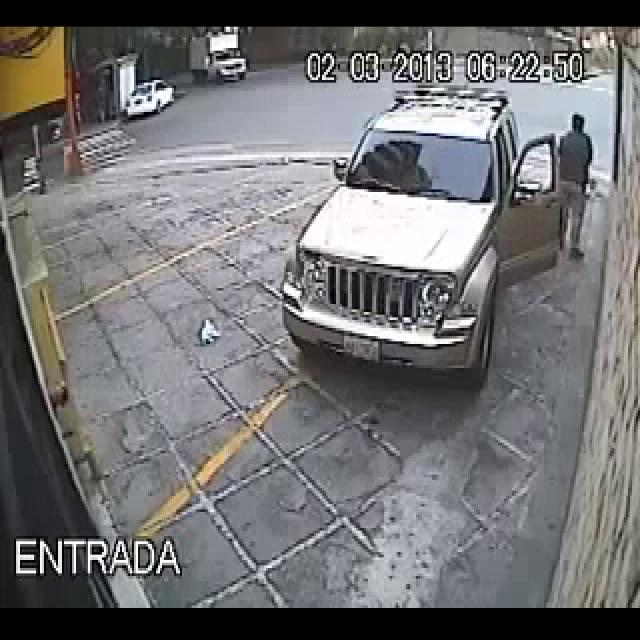shooting: (507, 26, 633, 381)
